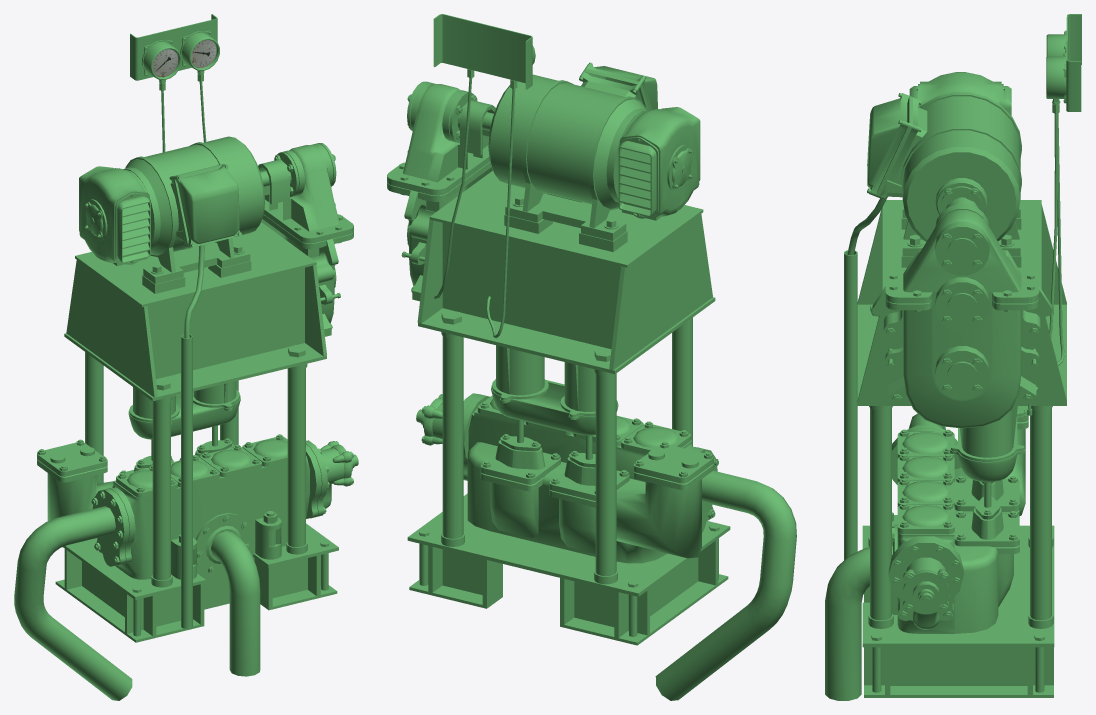
The model's file is Machine.fbx.
3 renders of one model, left to right at view 1: azimuth 30°, elevation 25°; view 2: azimuth 150°, elevation 25°; view 3: azimuth 270°, elevation 25°, orthographic. The views are drawn at different scales.
Parts seen in each view (by area): view 1: Meter.001; view 2: Meter.001; view 3: Meter.001.
Boxes of the visible parts, bbox=[...] form: Meter.001: bbox=[14, 14, 358, 700]; Meter.001: bbox=[387, 14, 796, 700]; Meter.001: bbox=[825, 14, 1081, 700].
Size of the model in its own units: 120 by 207 by 67.26.
